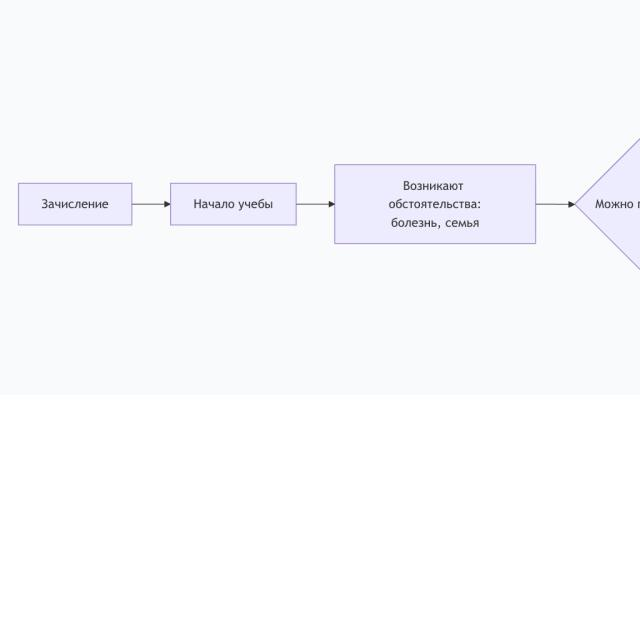arrow: (537, 200, 574, 207), (134, 200, 169, 207), (297, 202, 334, 207)
rectangle: (335, 164, 537, 244), (170, 183, 296, 225), (19, 183, 132, 225)
